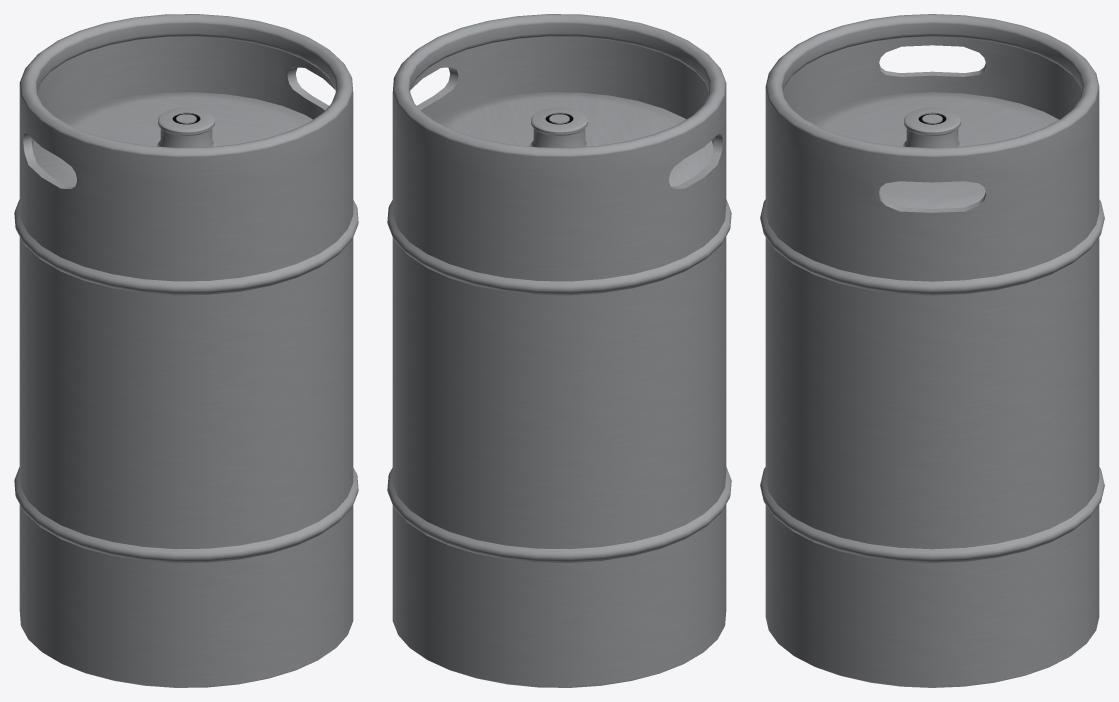
Rendered from asset.glb.
3 renders of one model, left to right at view 1: azimuth 30°, elevation 25°; view 2: azimuth 150°, elevation 25°; view 3: azimuth 270°, elevation 25°, orthographic.
Visible parts, largest first — view 1: BARREL_KEG_NEW_SUB0; view 2: BARREL_KEG_NEW_SUB0; view 3: BARREL_KEG_NEW_SUB0.
Boxes of the visible parts, x1,y1,x2,y2 form: BARREL_KEG_NEW_SUB0: (14,14,358,687); BARREL_KEG_NEW_SUB0: (387,14,731,687); BARREL_KEG_NEW_SUB0: (760,14,1104,687).
Size of the model in its own units: 0.4131 by 0.7119 by 0.4131.
Materials: 1 (1 with a texture image).
